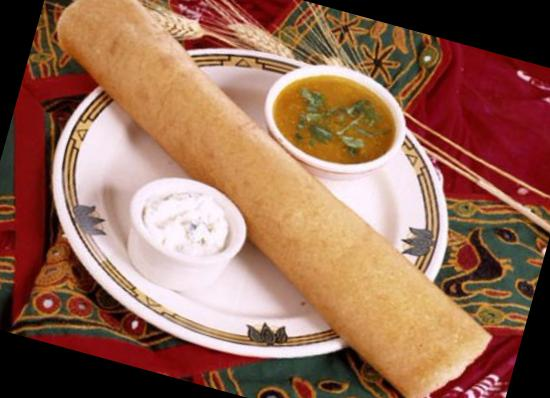dosa: (58, 1, 488, 396)
